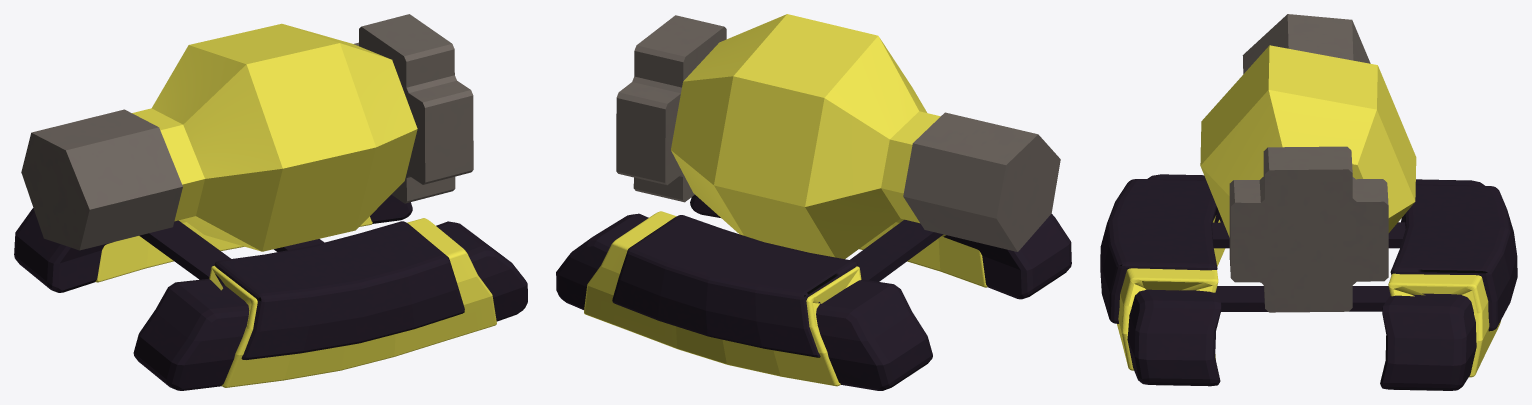
File: 黄色小坦克.fbx
3 views of the same model, side by side, from view 1: azimuth 30°, elevation 25°; view 2: azimuth 150°, elevation 25°; view 3: azimuth 270°, elevation 25° (orthographic). The views are drawn at different scales.
Parts seen in each view (by area): view 1: purpletank_body_Baked, purpletank_Track housing_Baked, purpletank_Caterpillar track_Baked, purpletank_cannon_Baked, purpletank_Track housing2_Baked, purpleank_back_Baked, purpletank_joint_Baked; view 2: purpletank_body_Baked, purpletank_Track housing_Baked, purpletank_Caterpillar track_Baked, purpletank_cannon_Baked, purpletank_Track housing2_Baked, purpleank_back_Baked, purpletank_joint_Baked; view 3: purpleank_back_Baked, purpletank_body_Baked, purpletank_Track housing_Baked, purpletank_Caterpillar track_Baked, purpletank_Track housing2_Baked, purpletank_cannon_Baked, purpletank_joint_Baked.
Boxes of the visible parts, x1,y1,x2,y2 form: purpletank_body_Baked: (132,23,417,251); purpletank_Track housing_Baked: (214,221,464,359); purpletank_Caterpillar track_Baked: (14,194,527,390); purpletank_cannon_Baked: (21,109,182,250); purpletank_Track housing2_Baked: (95,216,496,387); purpleank_back_Baked: (354,14,473,203); purpletank_joint_Baked: (139,220,324,279); purpletank_body_Baked: (671,14,940,258); purpletank_Track housing_Baked: (612,215,857,357); purpletank_Caterpillar track_Baked: (556,195,1071,390); purpletank_cannon_Baked: (903,112,1060,251); purpletank_Track housing2_Baked: (584,211,987,386); purpleank_back_Baked: (616,15,726,202); purpletank_joint_Baked: (850,219,943,281); purpleank_back_Baked: (1229,146,1388,312); purpletank_body_Baked: (1200,45,1416,237); purpletank_Track housing_Baked: (1100,179,1517,331); purpletank_Caterpillar track_Baked: (1127,174,1484,390); purpletank_Track housing2_Baked: (1117,216,1500,377); purpletank_cannon_Baked: (1242,14,1370,73); purpletank_joint_Baked: (1212,222,1405,311).
Bounding box in the file's own units: 115 × 69.35 × 108.
Materials: 8 (8 with a texture image).
